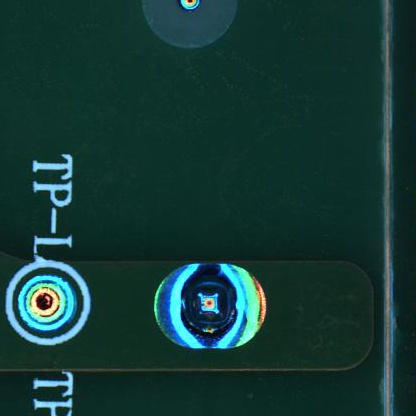spot: (142, 262, 277, 356), (13, 269, 80, 338)
